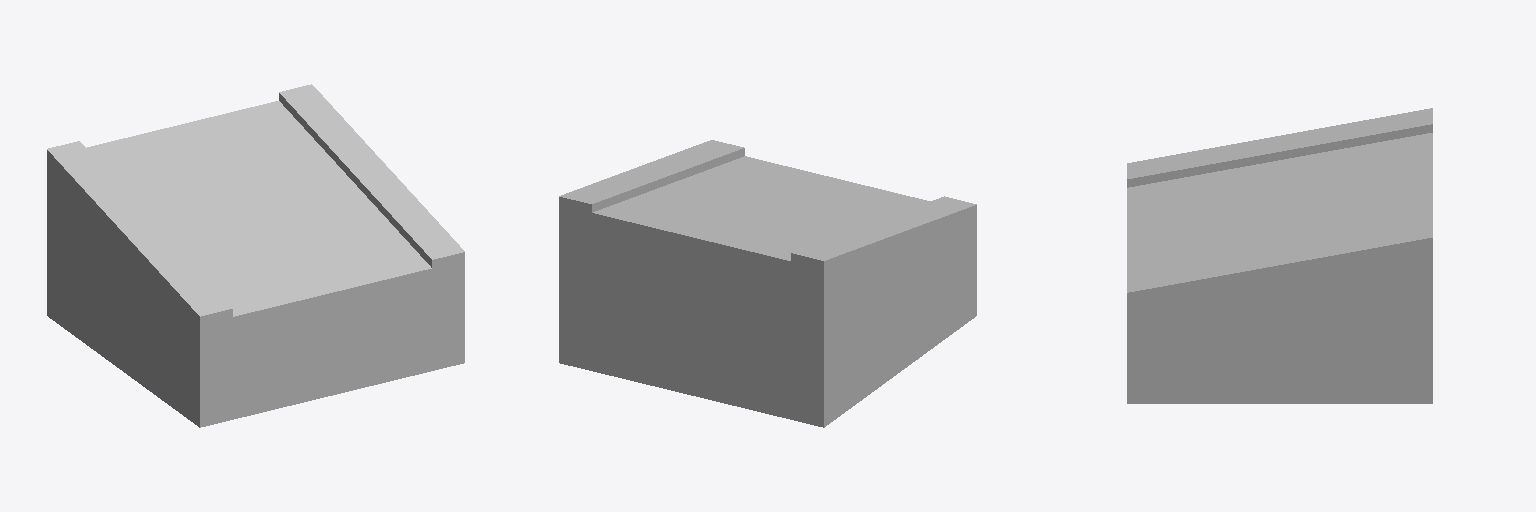
The model's file is tile_004.obj.
The picture shows the model from 3 angles: view 1: azimuth 30°, elevation 25°; view 2: azimuth 150°, elevation 25°; view 3: azimuth 270°, elevation 25°; orthographic projection.
Visible parts, largest first — view 1: tile_004; view 2: tile_004; view 3: tile_004.
Part boxes in pixels (x1,y1,x2,y2): tile_004: (47,84,464,427); tile_004: (559,140,976,427); tile_004: (1127,108,1432,403).
Bounding box in the file's own units: 1 × 0.6 × 1.